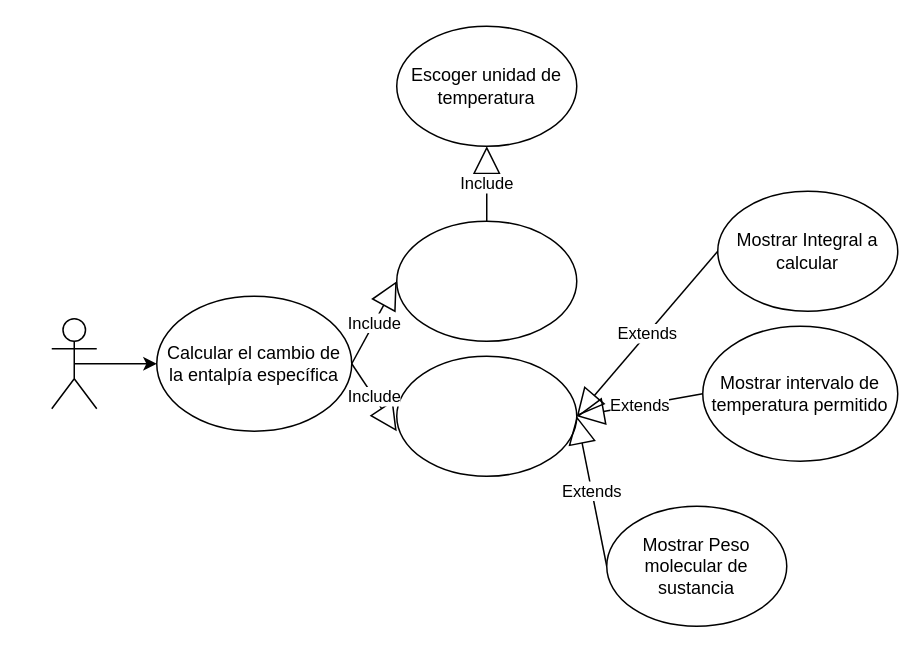
Some shapes in this 924 by 653 pixel diagram are drawn without their labels. The box of each missing label's shape, as (x1, y1, x2, y2) in pixels:
Academicos: (50, 317, 97, 409)
Escoger sustancia: (395, 355, 577, 476)
Insertar intervalo de temperatura: (395, 220, 577, 341)
